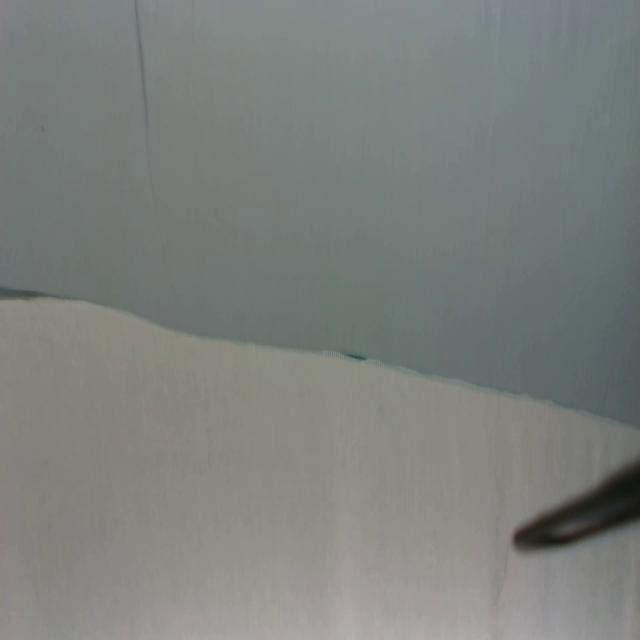crease: (132, 0, 159, 215)
hole: (40, 122, 48, 135)
